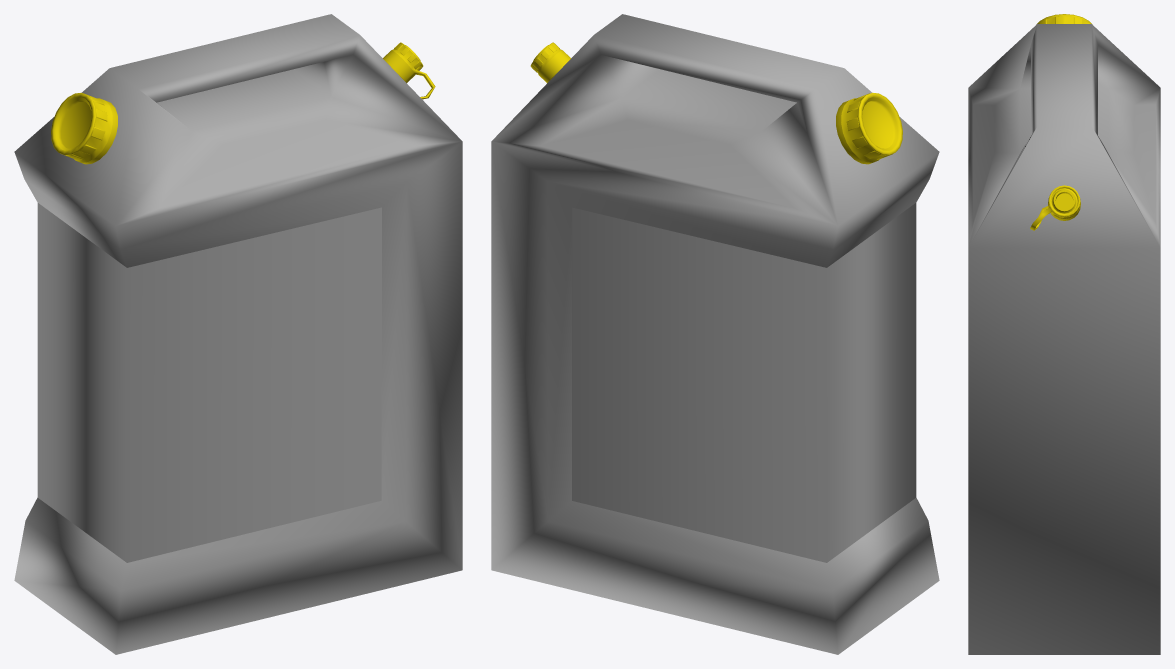
Rendered from Gascan.fbx.
The picture shows the model from 3 angles, left to right: view 1: azimuth 30°, elevation 25°; view 2: azimuth 150°, elevation 25°; view 3: azimuth 270°, elevation 25°; orthographic projection. The views are drawn at different scales.
Visible parts, largest first — view 1: GasCan_combined; view 2: GasCan_combined; view 3: GasCan_combined.
Part boxes in pixels (box(x1,y1,x2,y2)): GasCan_combined: box(14, 14, 462, 654); GasCan_combined: box(491, 14, 939, 654); GasCan_combined: box(968, 14, 1160, 654).
Size of the model in its own units: 49.47 by 68.58 by 24.03.
